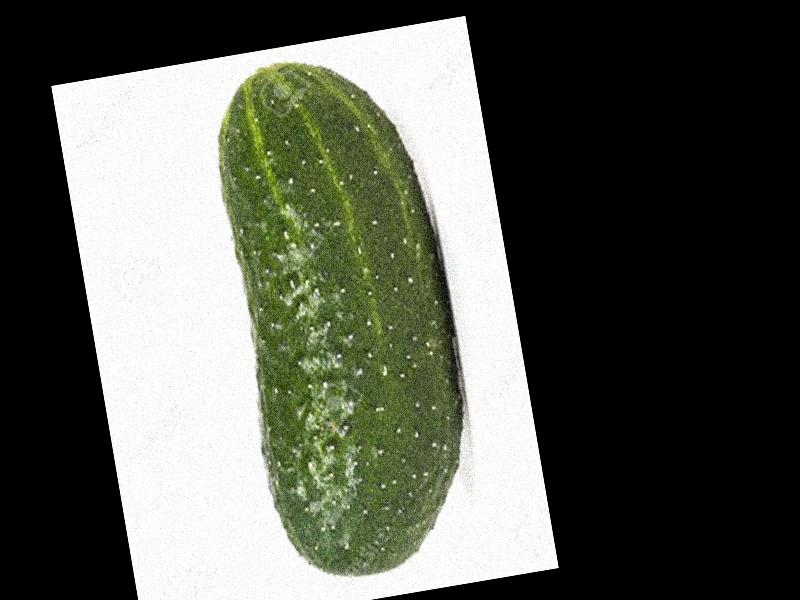Cucumber: (203, 41, 491, 588)
